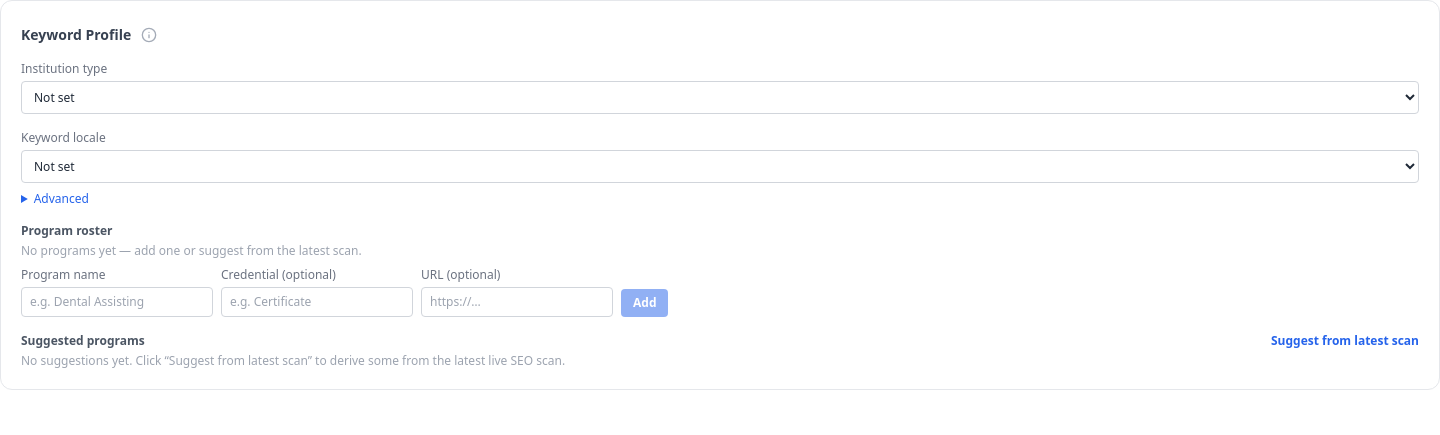
KeywordProfileCard › keeps the typed add-form input when the PATCH fails
Type "Welding" into the field labelled "Program name" at (117,302), box [21,287,213,317]
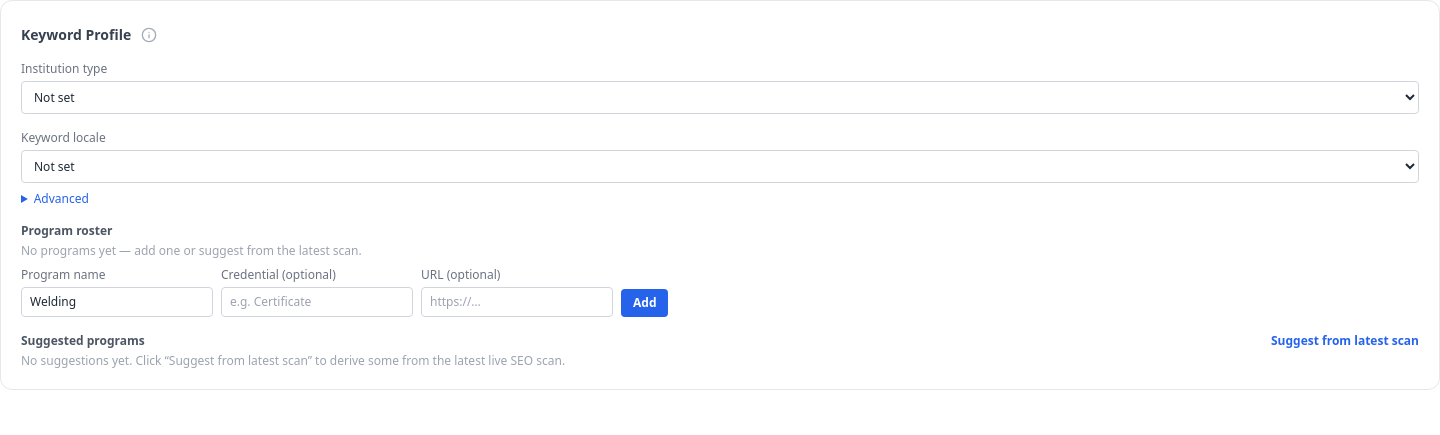
Click the button "Add" at (645,303), box [621,289,668,317]
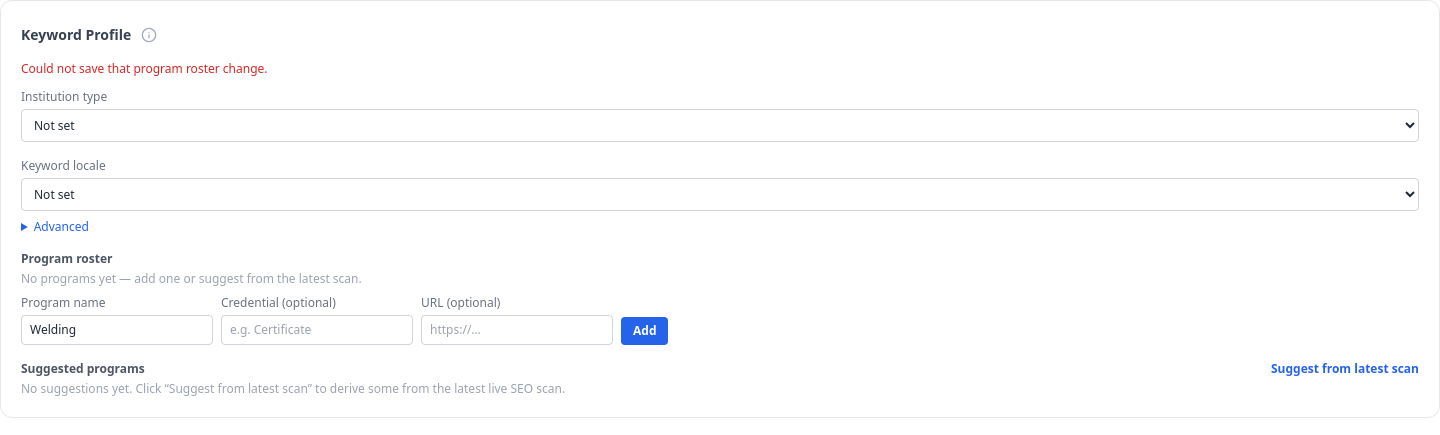
Check: the text "Could not save that program roster change." is shown, box [21,60,268,77]
